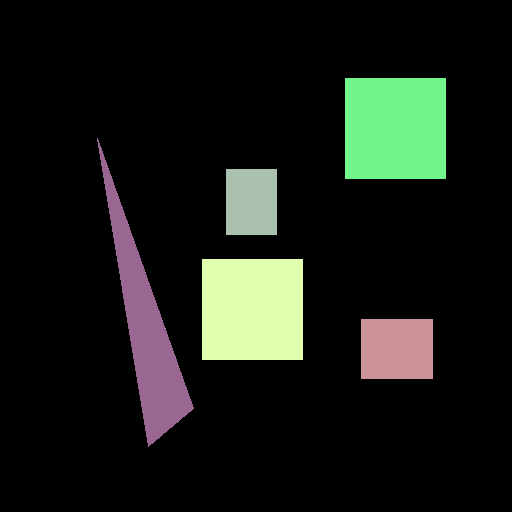rectangle: (361, 319, 432, 378), (226, 169, 276, 234)
square: (202, 259, 302, 359), (345, 78, 445, 178)
triangle: (97, 138, 193, 446)
